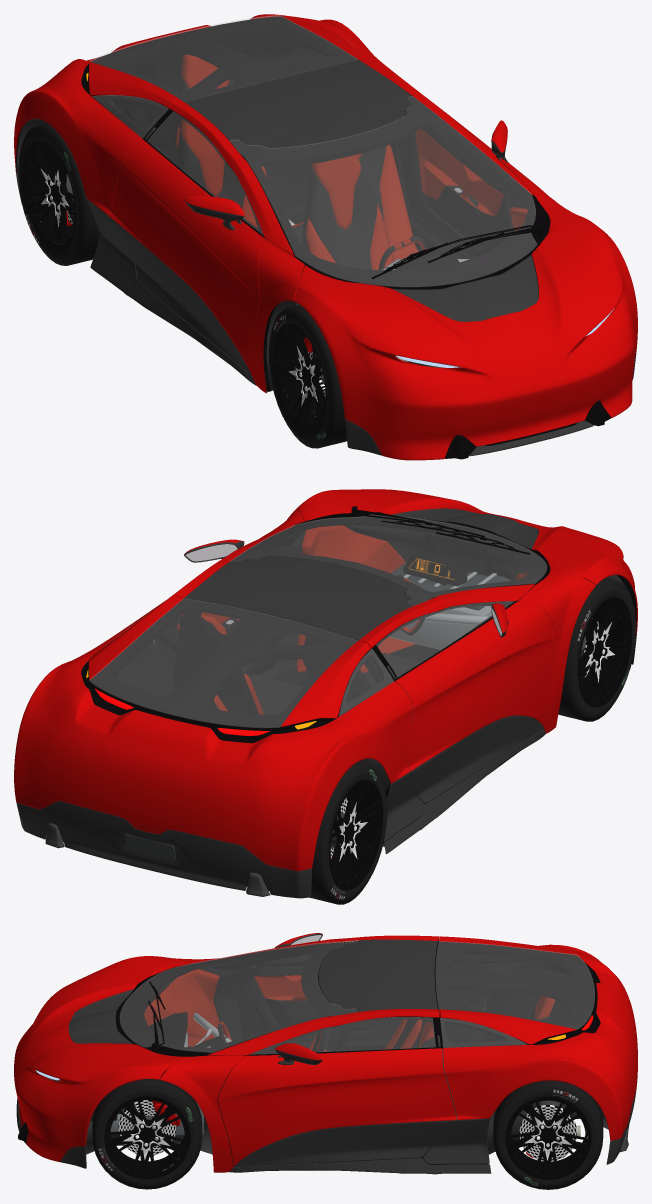
Rendered from sedan.glb.
3 renders of one model, top to bottom at view 1: azimuth 30°, elevation 25°; view 2: azimuth 150°, elevation 25°; view 3: azimuth 270°, elevation 25°, orthographic. The views are drawn at different scales.
Parts seen in each view (by area): view 1: glass_BodyWindshield, panel_hood.001, panel_BodyDoorRColor1, panel_BodyRoofPanel, glass_BodyRearwindow, panel_bumper_front, BodyWindshieldGasket, panel_rear_quarter_L, panel_front_fender_L, InteriorSeatsColor1, panel_BodyPillars, InteriorSeatsColor2 (+26 smaller); view 2: panel_rear_quarter_L, glass_BodyRearwindow, panel_BodyDoorRColor1, panel_rear_quarter_R, panel_BodyPanelsColor2, glass_BodyWindshield, panel_BodyRoofPanel, panel_bumper_rear.001, panel_BodyPillars, InteriorRearHatch, BodyWindshieldGasket, InteriorPillar (+28 smaller); view 3: panel_BodyDoorLColor1, glass_BodyWindshield, panel_rear_quarter_R, glass_BodyRearwindow, panel_BodyRoofPanel, panel_hood.001, panel_BodyPillars, panel_BodyDoorLColor2, panel_BodyPanelsColor2, BodyWindshieldGasket, panel_front_fender_R, WheelRearLRim (+29 smaller).
Part boxes in pixels (x1,y1,x2,y2): glass_BodyWindshield: (230,96,536,286); panel_hood.001: (342,230,628,411); panel_BodyDoorRColor1: (109,139,264,376); panel_BodyRoofPanel: (184,59,411,148); glass_BodyRearwindow: (90,15,357,101); panel_bumper_front: (342,326,637,460); BodyWindshieldGasket: (230,97,550,289); panel_rear_quarter_L: (14,34,183,203); panel_front_fender_L: (294,265,420,411); InteriorSeatsColor1: (176,54,418,269); panel_BodyPillars: (169,55,581,393); InteriorSeatsColor2: (178,77,386,269); panel_rear_quarter_L: (147,641,412,836); glass_BodyRearwindow: (89,598,357,727); panel_BodyDoorRColor1: (395,601,557,770); panel_rear_quarter_R: (14,595,183,805); panel_BodyPanelsColor2: (16,636,636,898); glass_BodyWindshield: (230,514,546,605); panel_BodyRoofPanel: (184,555,411,640); panel_bumper_rear.001: (14,758,410,871); panel_BodyPillars: (173,508,595,733); InteriorRearHatch: (90,599,369,732); BodyWindshieldGasket: (231,514,550,606); InteriorPillar: (166,600,409,708); panel_BodyDoorLColor1: (217,1048,456,1166); glass_BodyWindshield: (120,940,358,1052); panel_rear_quarter_R: (439,997,637,1112); glass_BodyRearwindow: (435,941,594,1029); panel_BodyRoofPanel: (318,939,437,1011); panel_hood.001: (14,971,158,1112); panel_BodyPillars: (159,935,439,1172); panel_BodyDoorLColor2: (234,1120,456,1166); panel_BodyPanelsColor2: (16,1078,637,1174); BodyWindshieldGasket: (116,941,357,1056); panel_front_fender_R: (34,1053,192,1131); WheelRearLRim: (505,1096,591,1179).
Bounding box in the file's own units: 2.2 × 1.3 × 4.64.
28 materials, 5 textured.
